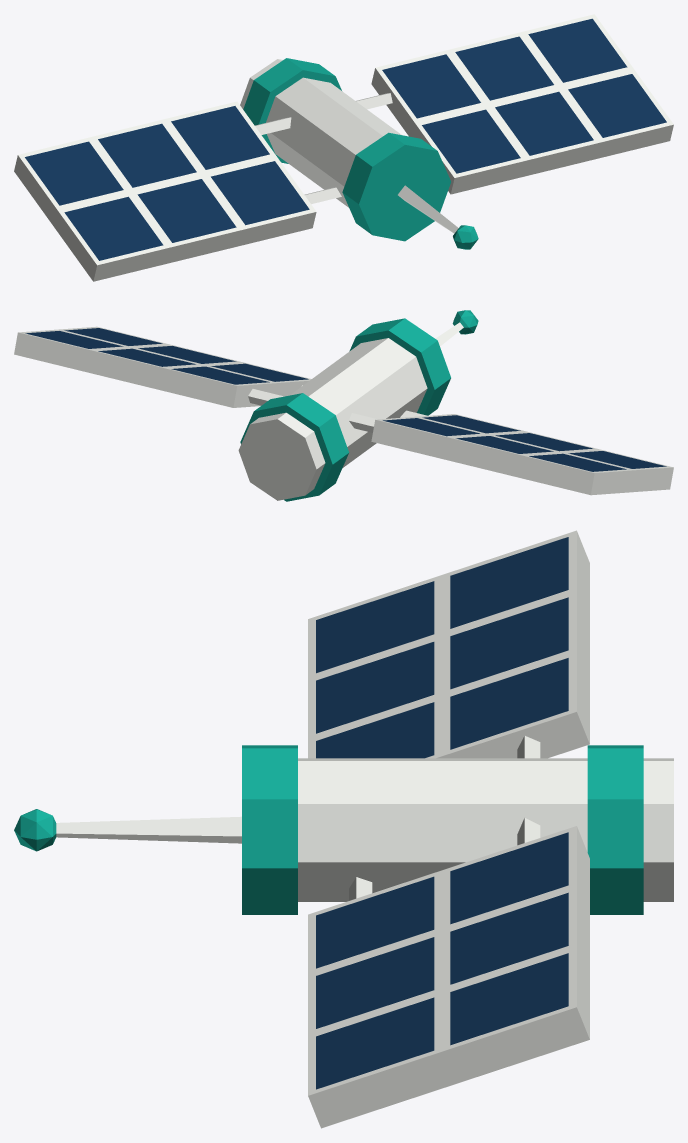
The model's file is satelliteB.FBX.
3 views of the same model, one above another, from view 1: azimuth 30°, elevation 25°; view 2: azimuth 150°, elevation 25°; view 3: azimuth 270°, elevation 25° (orthographic). The views are drawn at different scales.
Parts seen in each view (by area): view 1: satelliteB; view 2: satelliteB; view 3: satelliteB.
Part boxes in pixels (box(x1,y1,x2,y2)): satelliteB: box(14, 14, 673, 281); satelliteB: box(14, 310, 673, 501); satelliteB: box(14, 530, 673, 1128).
Bounding box in the file's own units: 25.85 × 4.14 × 15.13.
